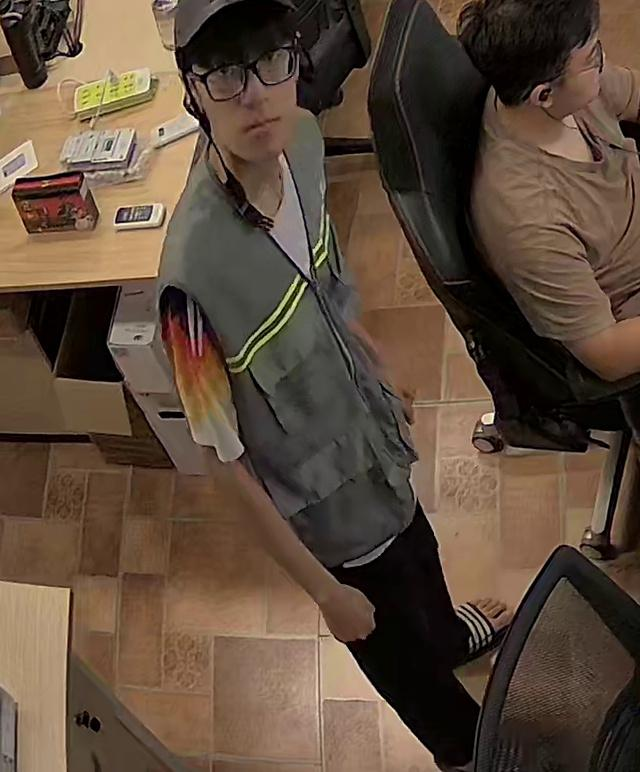helmet: (176, 0, 300, 62)
no_helmet: (459, 0, 595, 106)
none: (473, 68, 637, 371)
vest: (156, 112, 420, 558)
